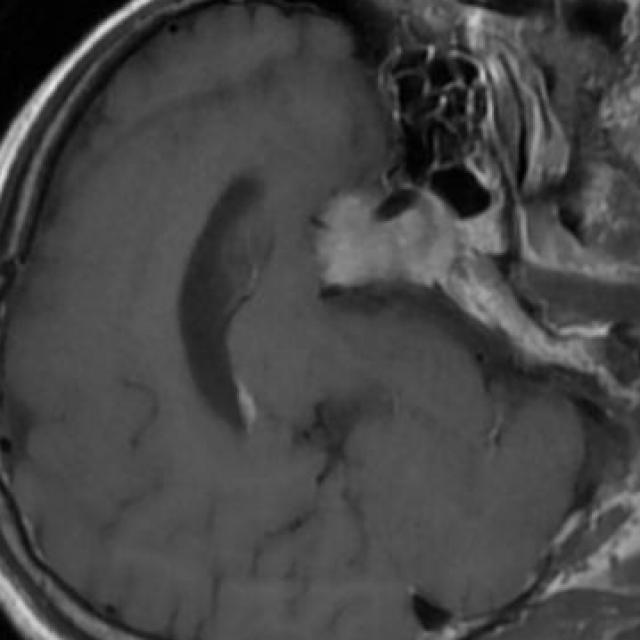pituitary: (319, 194, 456, 285)
